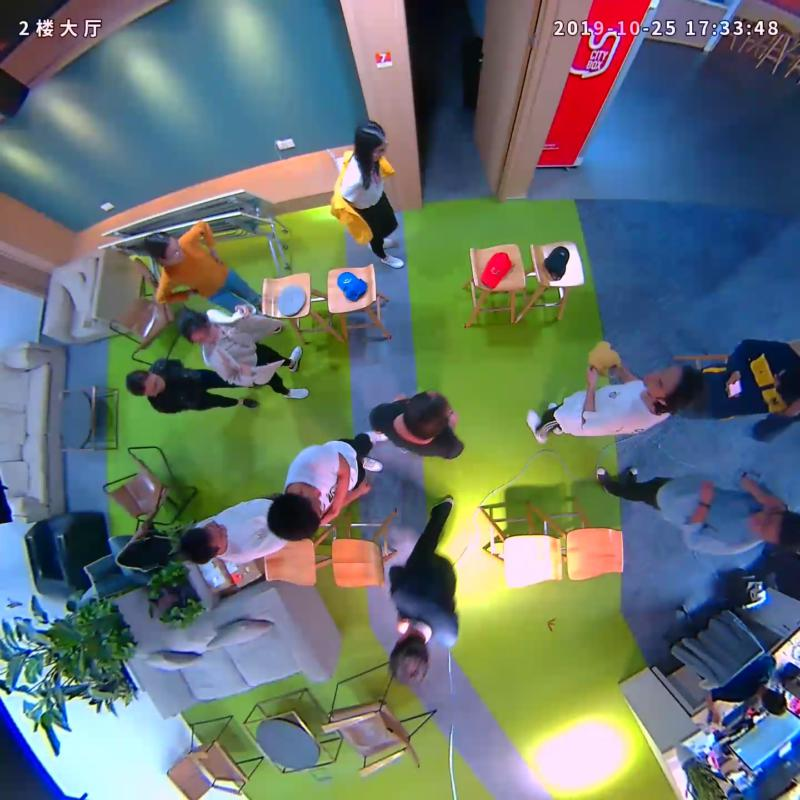head: (644, 361, 702, 410), (266, 492, 322, 542), (389, 628, 429, 686), (404, 389, 451, 438), (745, 507, 800, 545), (181, 523, 228, 564), (178, 309, 216, 346), (352, 120, 386, 161), (144, 232, 182, 266), (125, 369, 164, 397)
